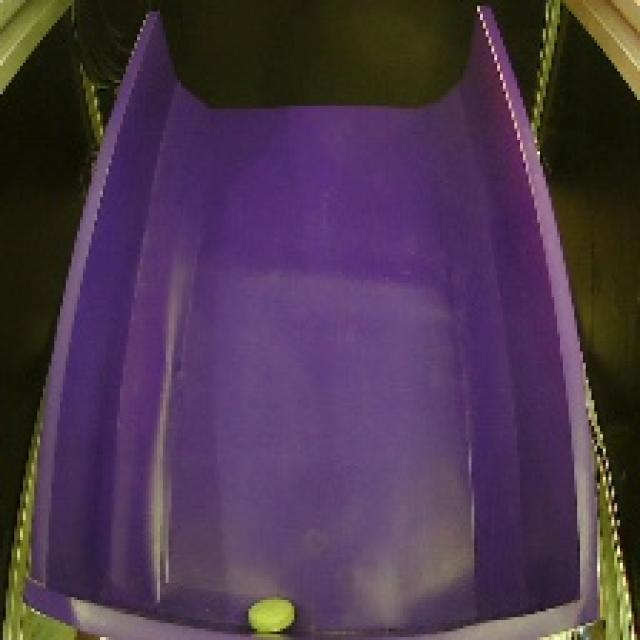small: (241, 587, 300, 637)
